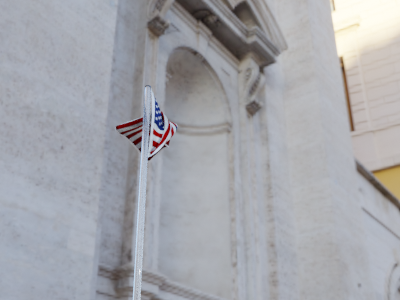America flag: (115, 97, 179, 160)
